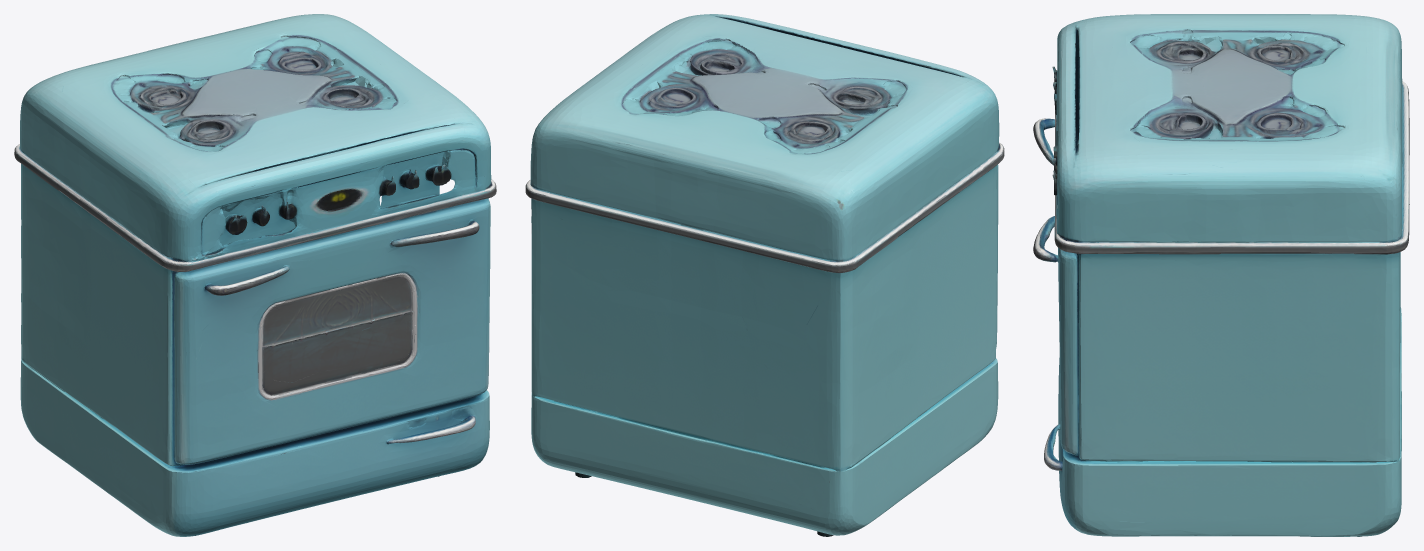
3 renders of one model, left to right at view 1: azimuth 30°, elevation 25°; view 2: azimuth 150°, elevation 25°; view 3: azimuth 270°, elevation 25°, orthographic. The views are drawn at different scales.
Parts seen in each view (by area): view 1: world; view 2: world; view 3: world.
Boxes of the visible parts, <box> form: world: <box>14,14,496,536</box>; world: <box>525,14,1004,536</box>; world: <box>1033,14,1409,536</box>.
Bounding box in the file's own units: 0.9355 × 0.9965 × 0.8783.
1 material, 1 textured.
